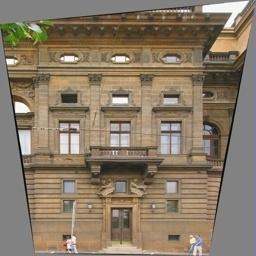building: (4, 4, 256, 251)
